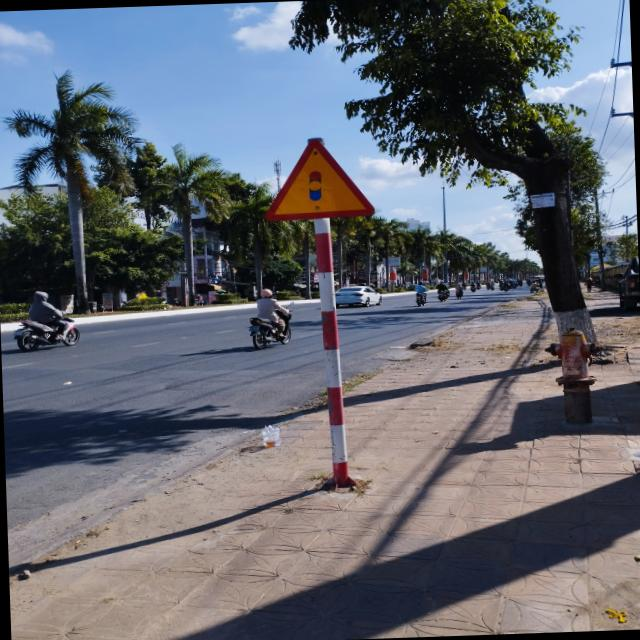Duong_Co_Go_Giam_Toc: (260, 134, 374, 222)
